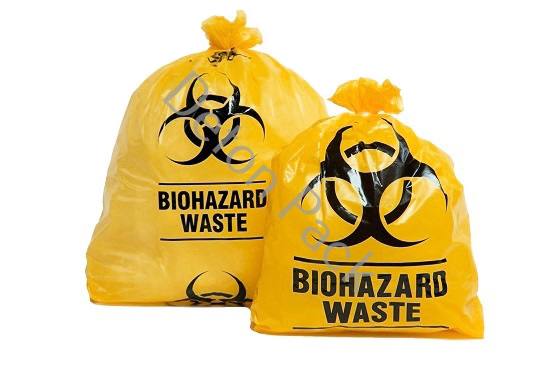plastic_bagwdw: (226, 14, 530, 364), (51, 1, 345, 357)
